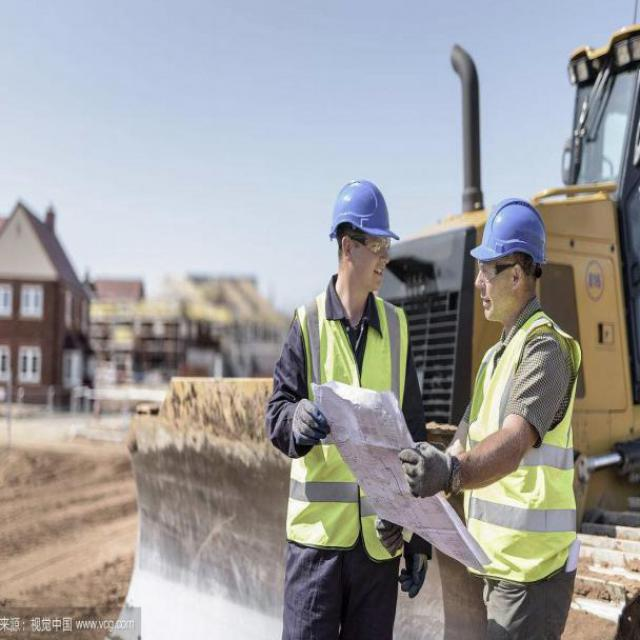gloves: (367, 513, 435, 600), (389, 427, 456, 499), (281, 368, 327, 456)
helmet: (468, 182, 554, 330), (322, 163, 393, 306)
vest: (475, 326, 567, 579), (308, 290, 395, 534)
